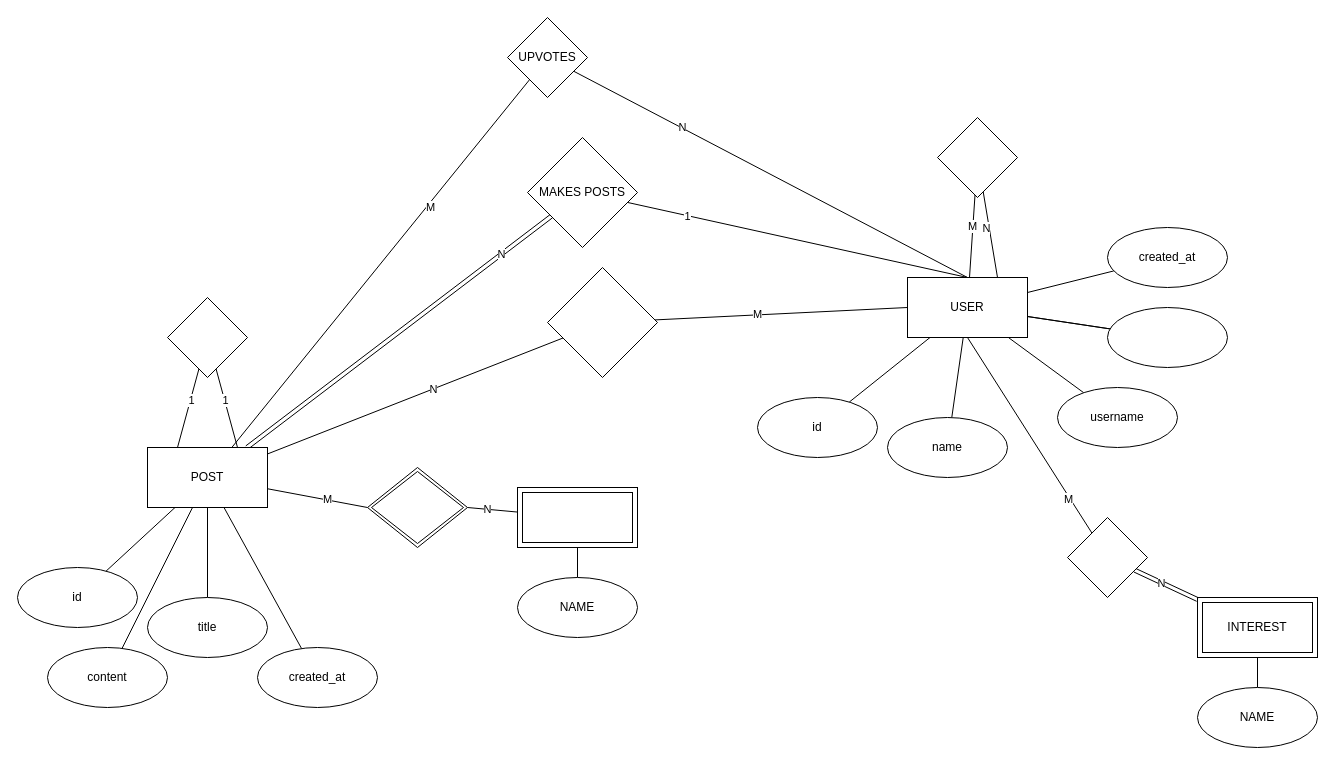
Image size: 1335x765. Some labels were removed from this diagram. The shapes that lost their labels are listed below. From the top down, each one's centre as x and y in pixels, then its label:
At [977,157]: "FOLLOWS".
At [207,337]: "HAS PARENT".
At [602,322]: "SAVES POST".
At [1167,337]: "password".
At [417,507]: "HAS TAGS".
At [577,517]: "HASHTAG".
At [1107,557]: "HAS INTERESTS".
